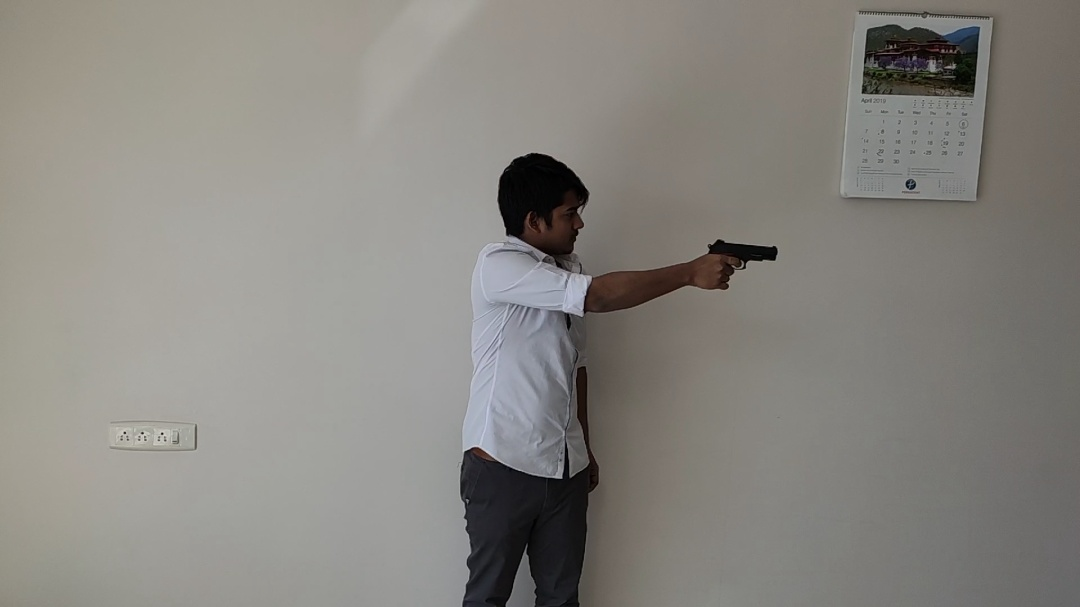gun: (707, 238, 778, 271)
